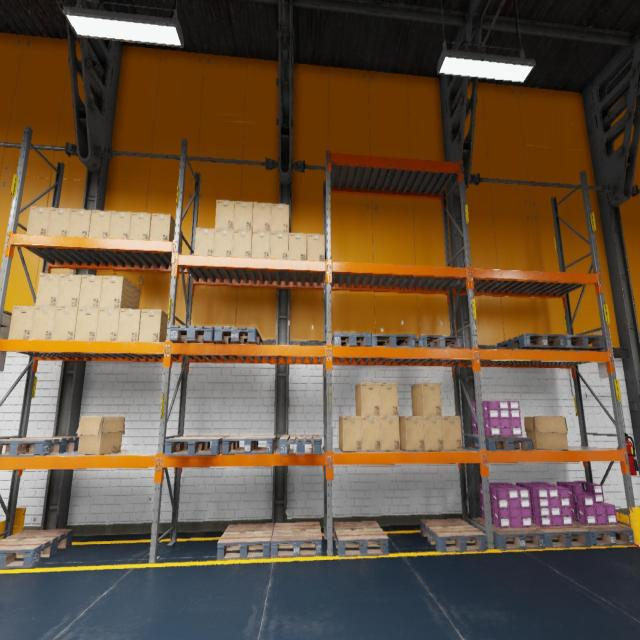box: (76, 416, 124, 455), (524, 416, 568, 450), (149, 213, 183, 253), (100, 276, 140, 308), (138, 309, 175, 342), (411, 383, 442, 416), (8, 305, 35, 339), (399, 416, 425, 451), (52, 307, 78, 340), (30, 306, 56, 339), (355, 382, 380, 416), (78, 274, 103, 308), (35, 274, 61, 306), (339, 416, 362, 452), (57, 274, 82, 307), (74, 308, 99, 340), (96, 308, 120, 341), (117, 309, 141, 341), (26, 206, 51, 235), (423, 416, 444, 450), (47, 207, 71, 236), (362, 416, 381, 452), (442, 416, 462, 450), (380, 417, 400, 451), (88, 210, 112, 238), (379, 382, 398, 416), (68, 208, 91, 236), (129, 212, 151, 240), (109, 211, 131, 239), (215, 200, 235, 229), (234, 201, 253, 231), (194, 228, 215, 255), (214, 228, 234, 256), (252, 202, 271, 231), (232, 230, 252, 257), (288, 232, 307, 260), (271, 204, 290, 232), (270, 232, 289, 259), (306, 233, 324, 261), (252, 230, 270, 258)
pallets: (0, 528, 73, 568), (472, 517, 545, 550), (420, 518, 486, 553), (217, 523, 274, 560), (333, 521, 388, 557), (271, 522, 322, 558), (572, 520, 634, 546), (0, 437, 79, 456), (531, 523, 590, 548), (164, 436, 230, 456), (497, 334, 565, 350), (222, 435, 277, 454), (465, 436, 532, 451), (214, 326, 263, 344), (551, 335, 605, 351), (169, 325, 216, 343), (280, 435, 322, 454), (415, 334, 463, 348), (332, 332, 372, 346), (372, 334, 415, 347)
